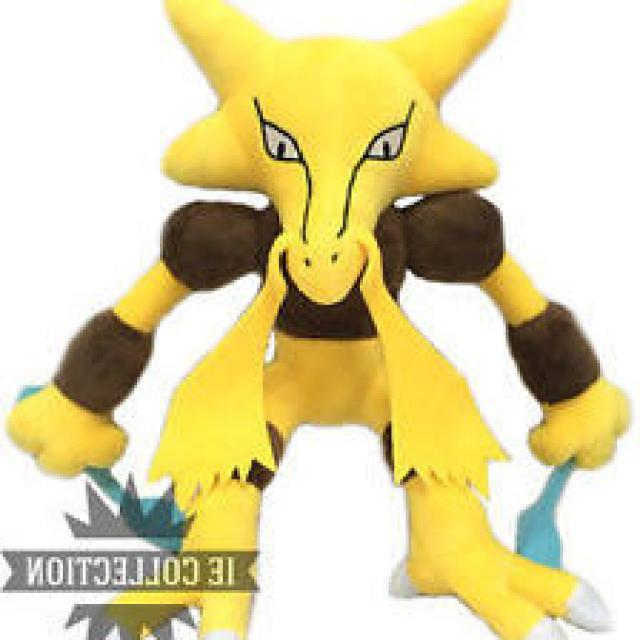Alakazam: (59, 13, 566, 544)
